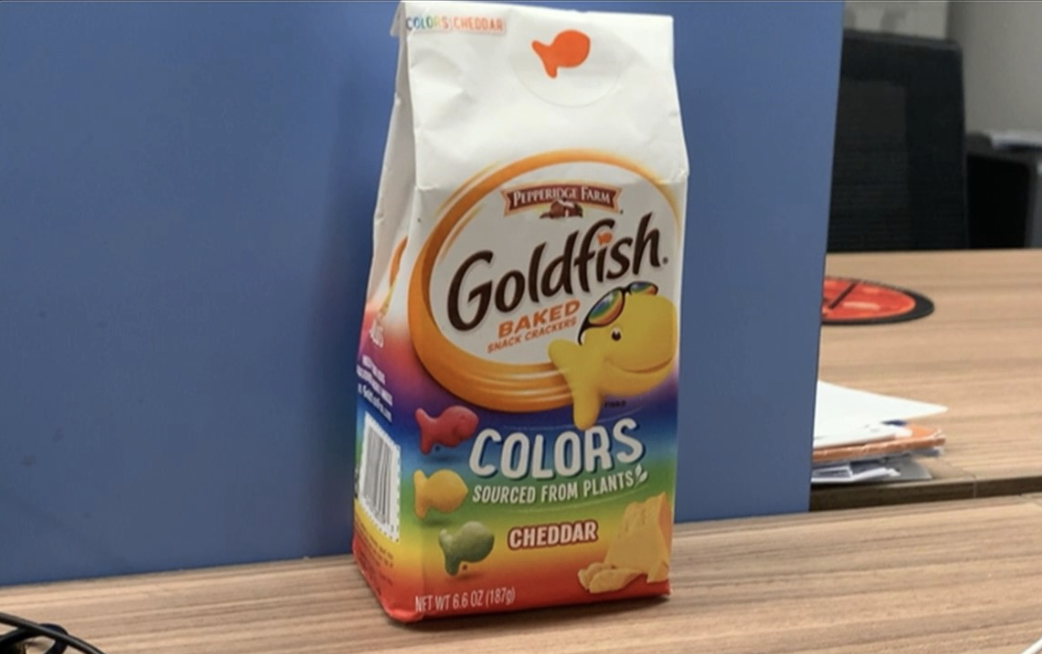crackers_150g: (409, 21, 677, 615)
